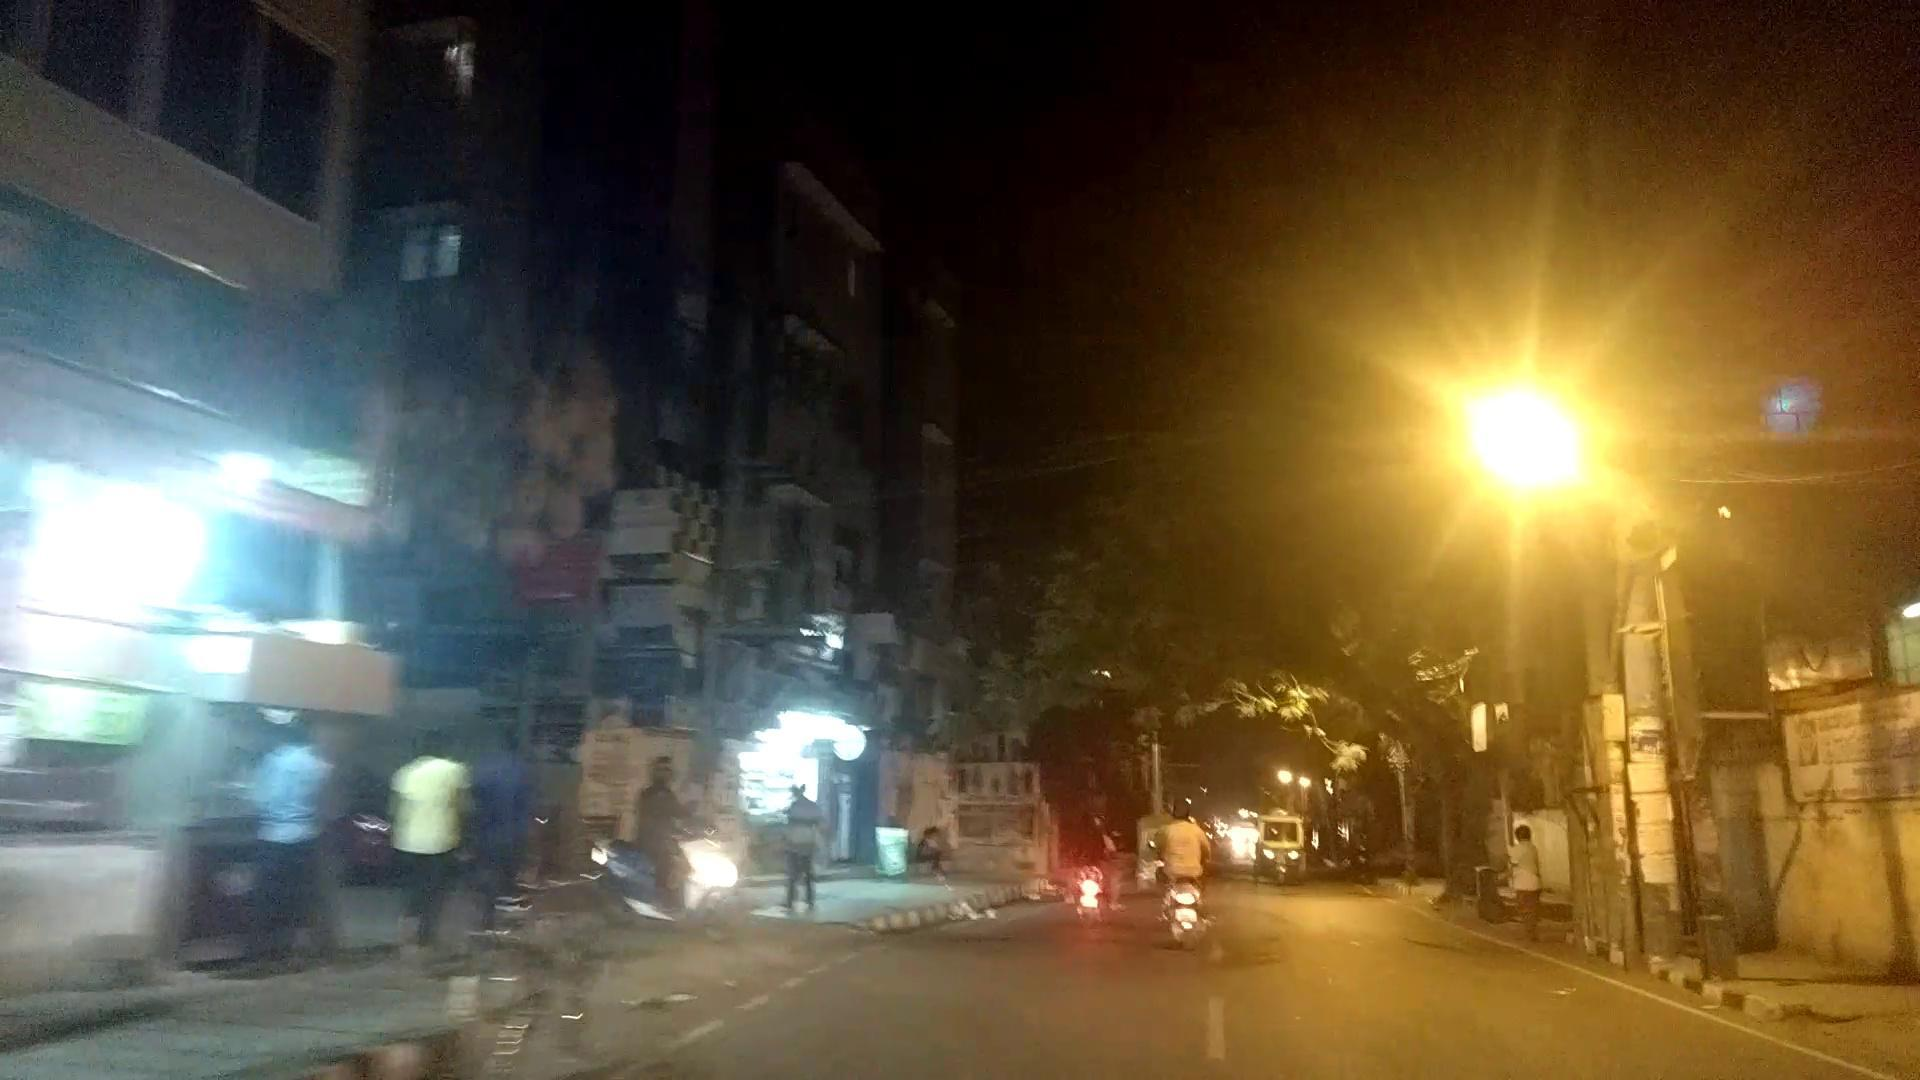on: (1320, 252, 1742, 555)
